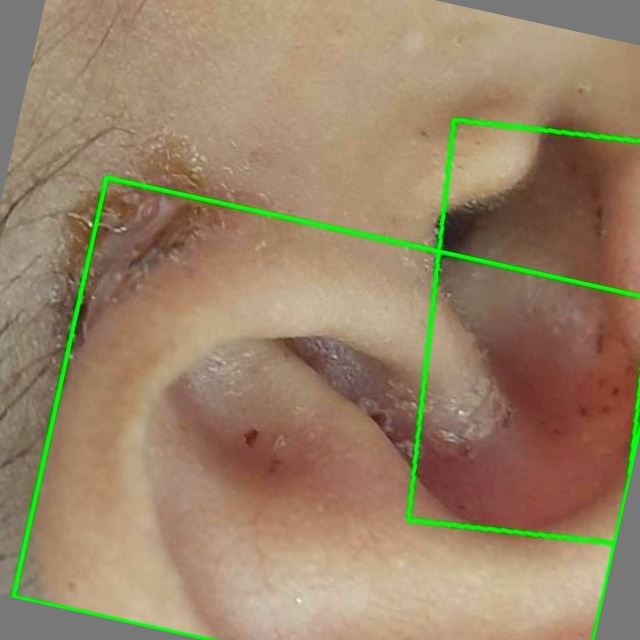Eczema: (13, 177, 639, 639), (407, 119, 639, 542)
